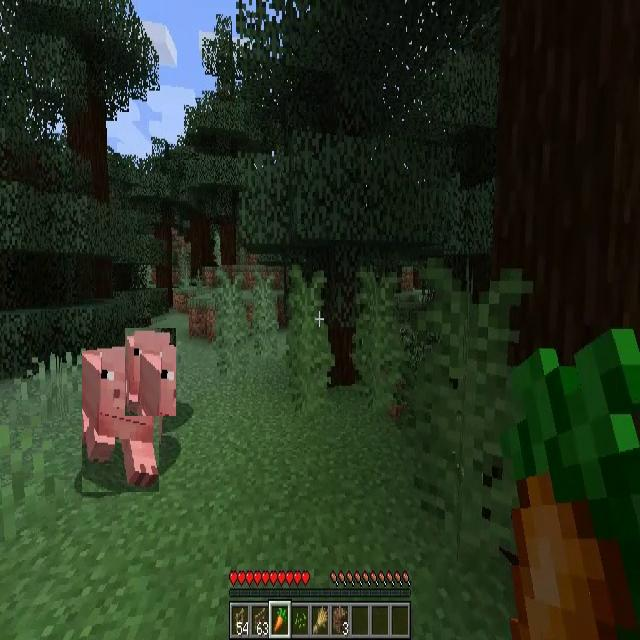pig: (82, 351, 159, 492), (125, 328, 176, 416)
